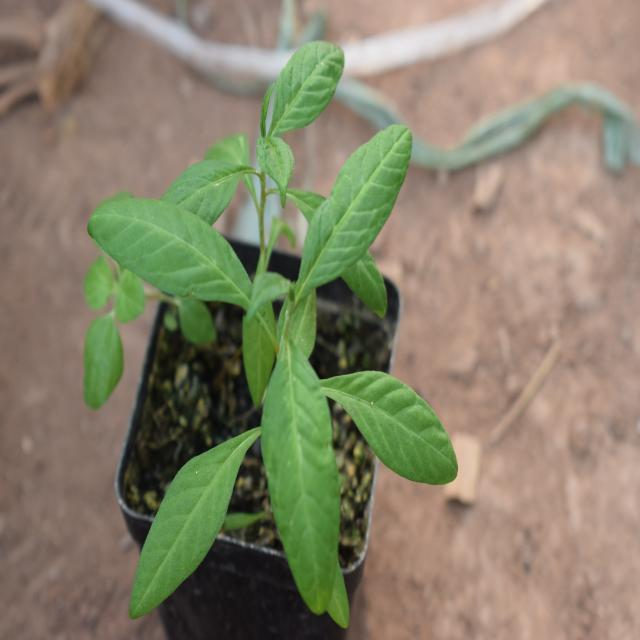white_smart_weed: (84, 132, 443, 587)
